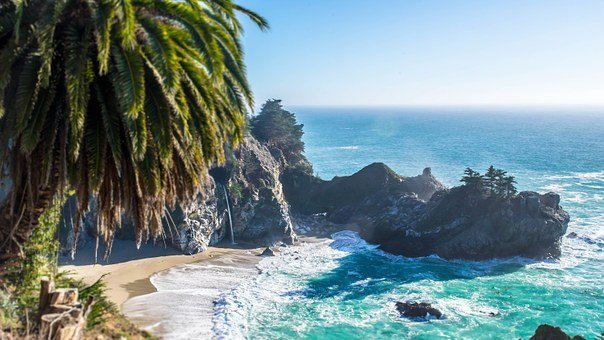mountain: (124, 159, 556, 249)
sea: (256, 103, 604, 337)
tree: (9, 4, 223, 338)
